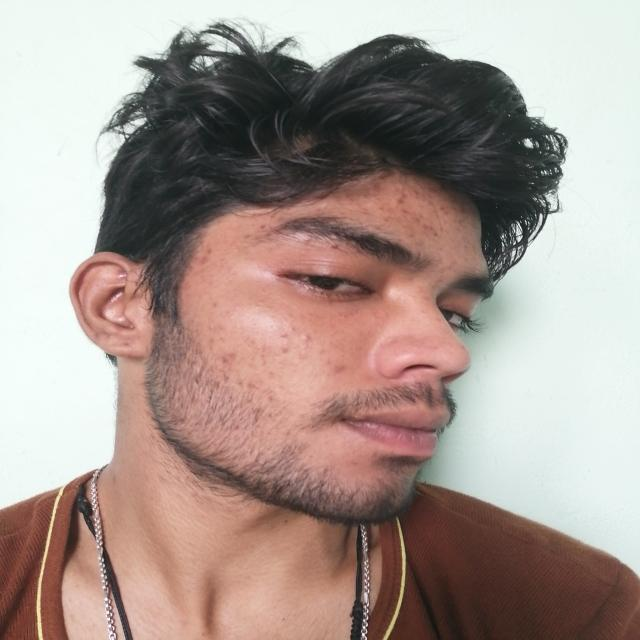acne: (244, 338, 270, 356), (418, 214, 438, 232), (252, 370, 278, 383), (200, 248, 218, 266), (396, 192, 418, 205), (214, 350, 237, 362), (330, 360, 346, 376), (450, 204, 468, 218), (207, 300, 223, 314), (426, 184, 442, 196), (376, 202, 394, 212), (206, 338, 220, 350), (278, 345, 294, 355), (350, 455, 362, 468), (298, 332, 312, 342), (287, 322, 299, 332), (206, 325, 220, 332), (277, 332, 290, 339), (256, 224, 268, 230)
pores: (321, 326, 367, 364)
